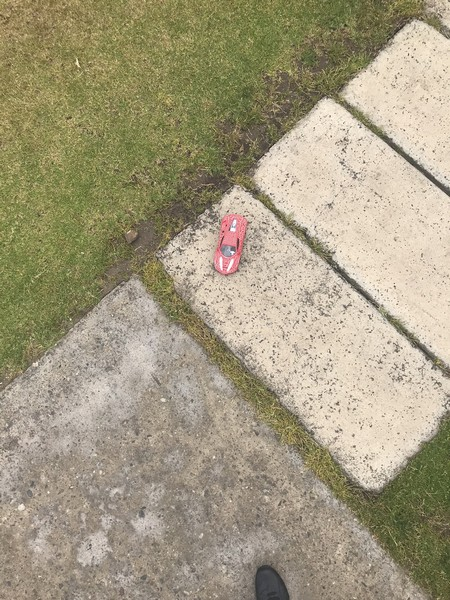RC: (212, 215, 248, 276)
